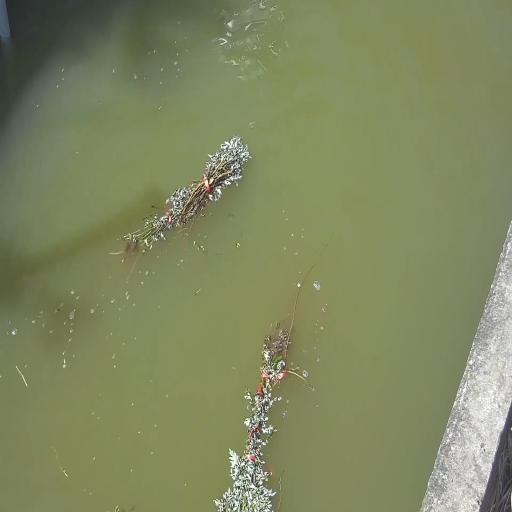twig: (215, 227, 336, 511), (113, 136, 251, 288)
